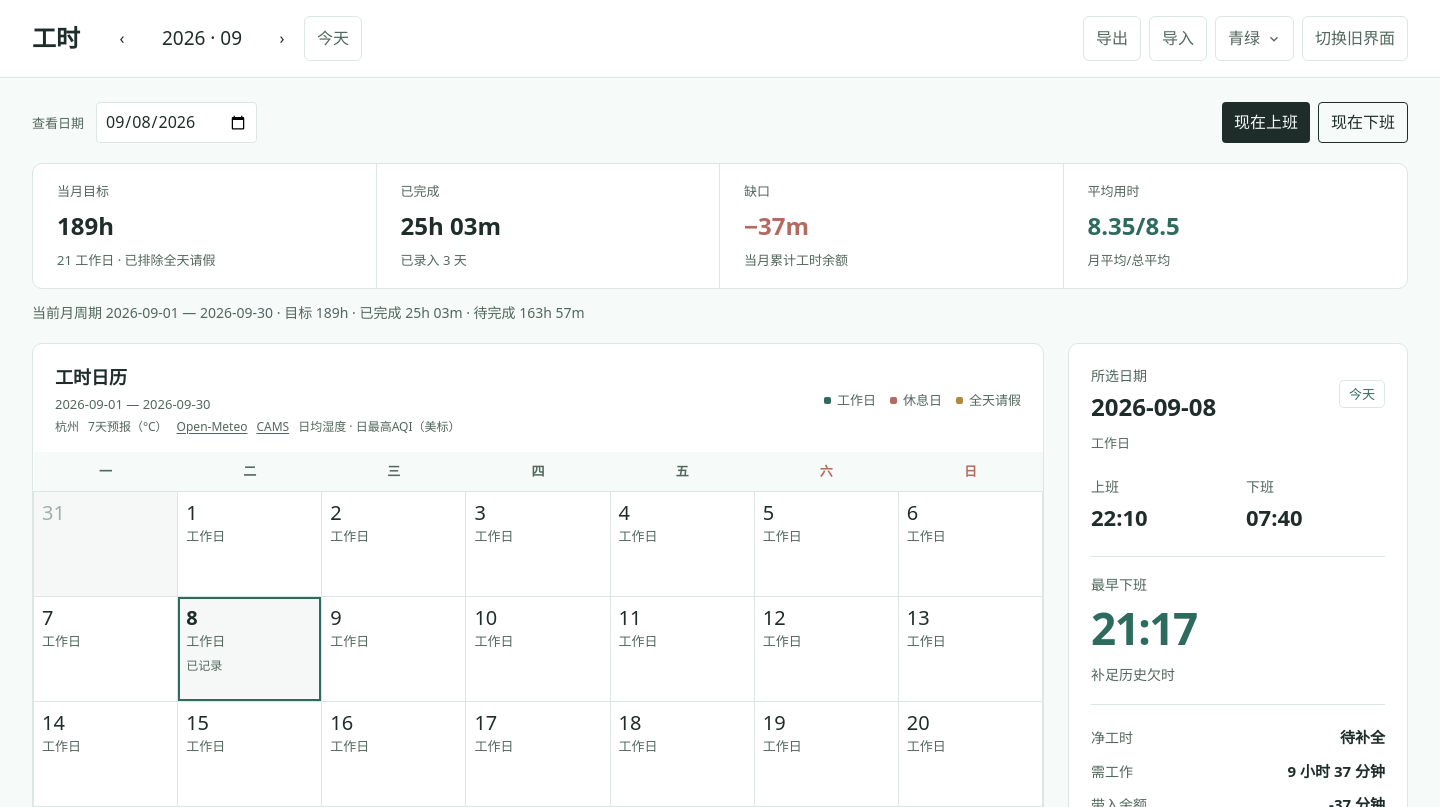
saves cross-midnight punches and retains inputs when saving fails
Click the button with aria-label "选择 2026-09-08".
click(250, 649)  # box [178, 597, 321, 701]
(page scrolled)
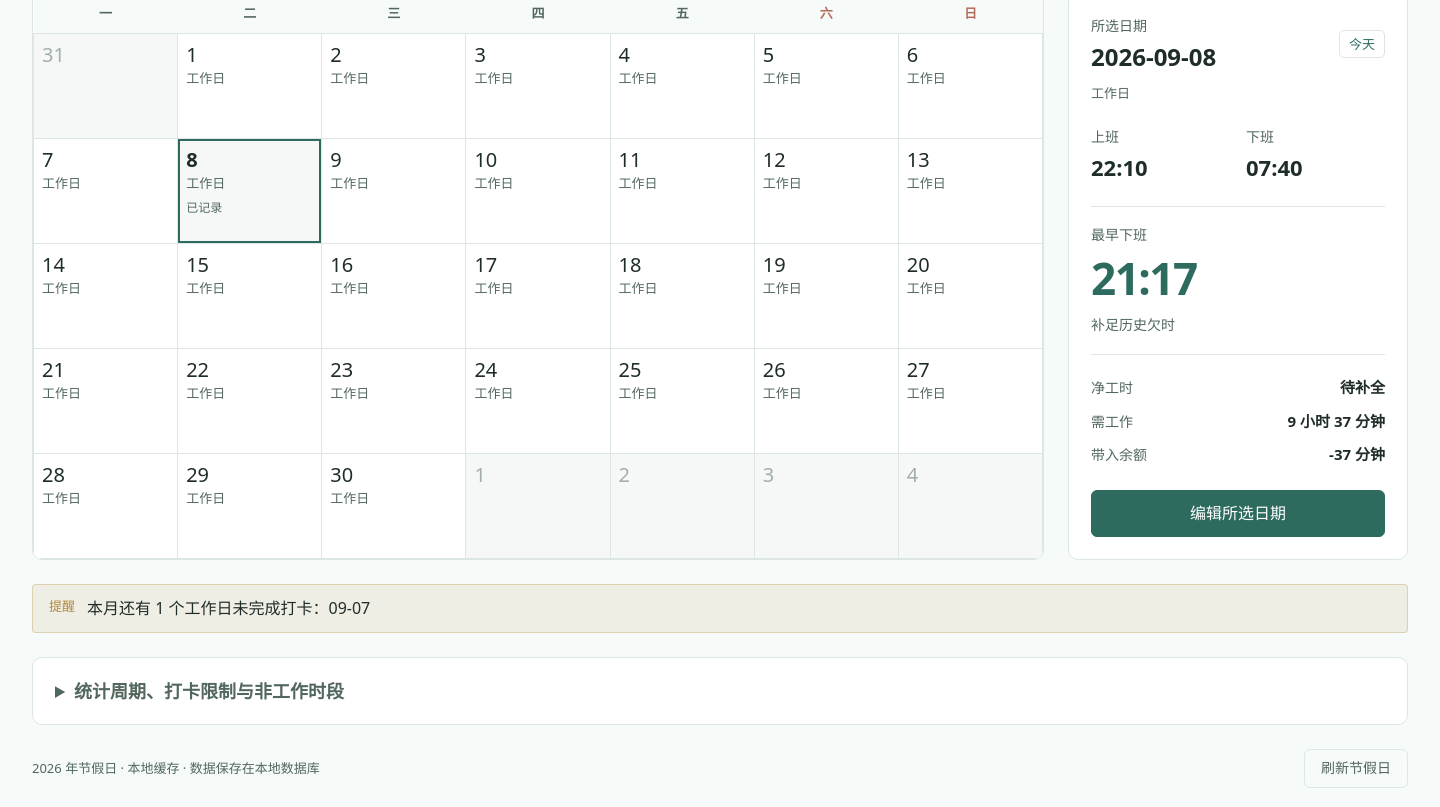
Click the button "编辑所选日期".
click(1238, 513)  # box [1091, 490, 1385, 537]
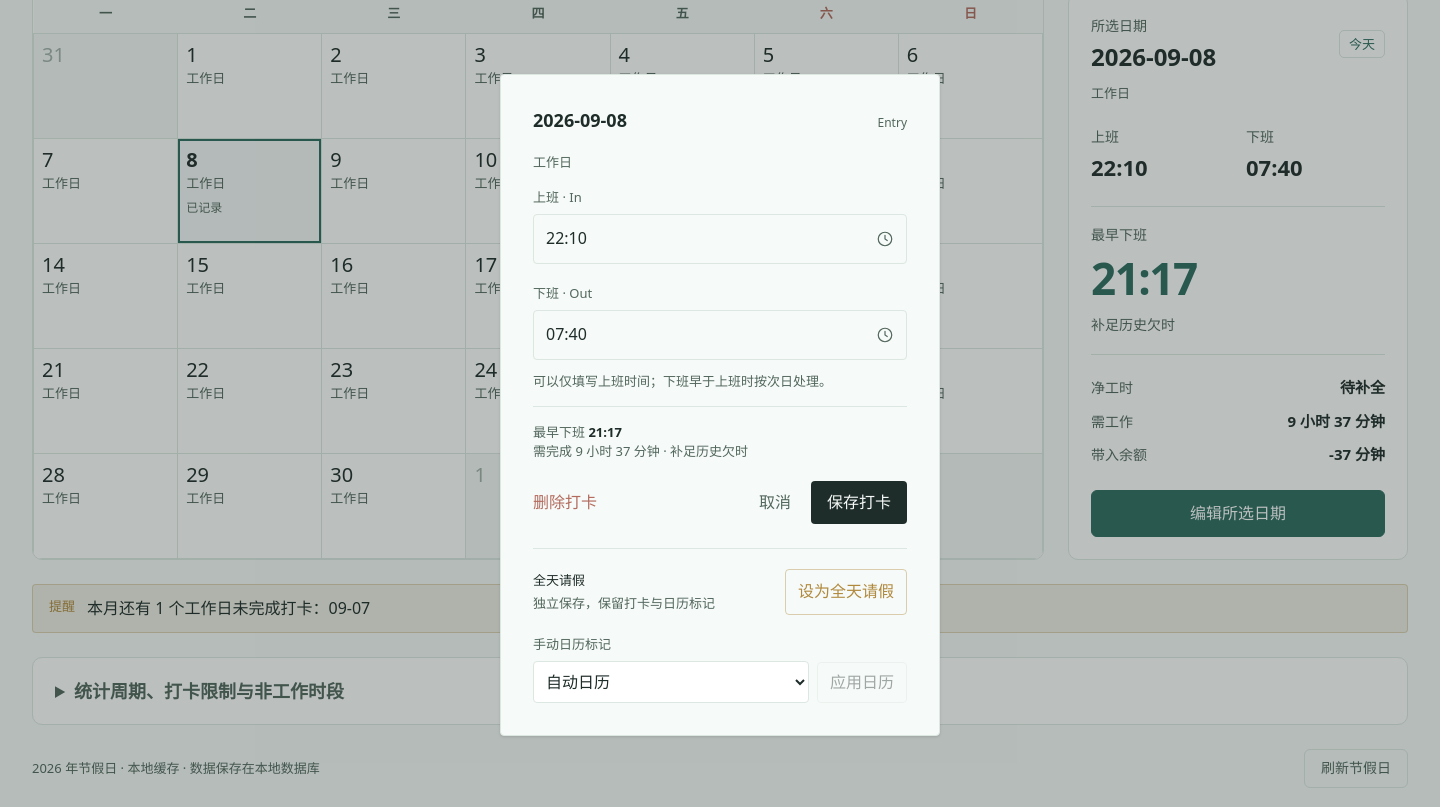
Result: the dialog is shown at [500, 74, 940, 736]
Click the button "保存打卡".
click(859, 503)  # box [811, 481, 907, 524]
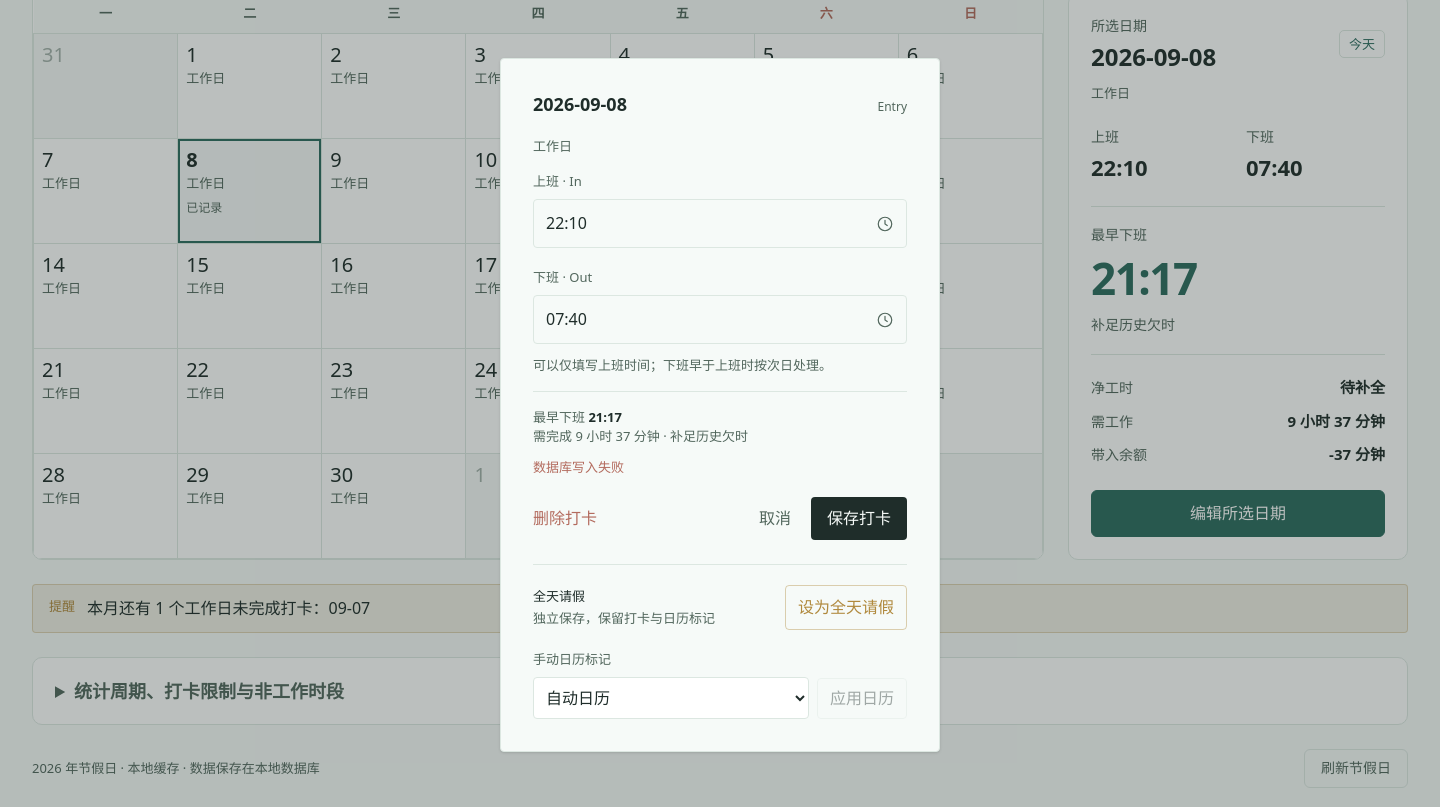
Result: the button named "上班 · In" reads "22:10" at [533, 199, 907, 248]
Result: the button named "下班 · Out" reads "07:40" at [533, 295, 907, 344]
Result: the text "数据库写入失败" is shown at [533, 458, 624, 476]
